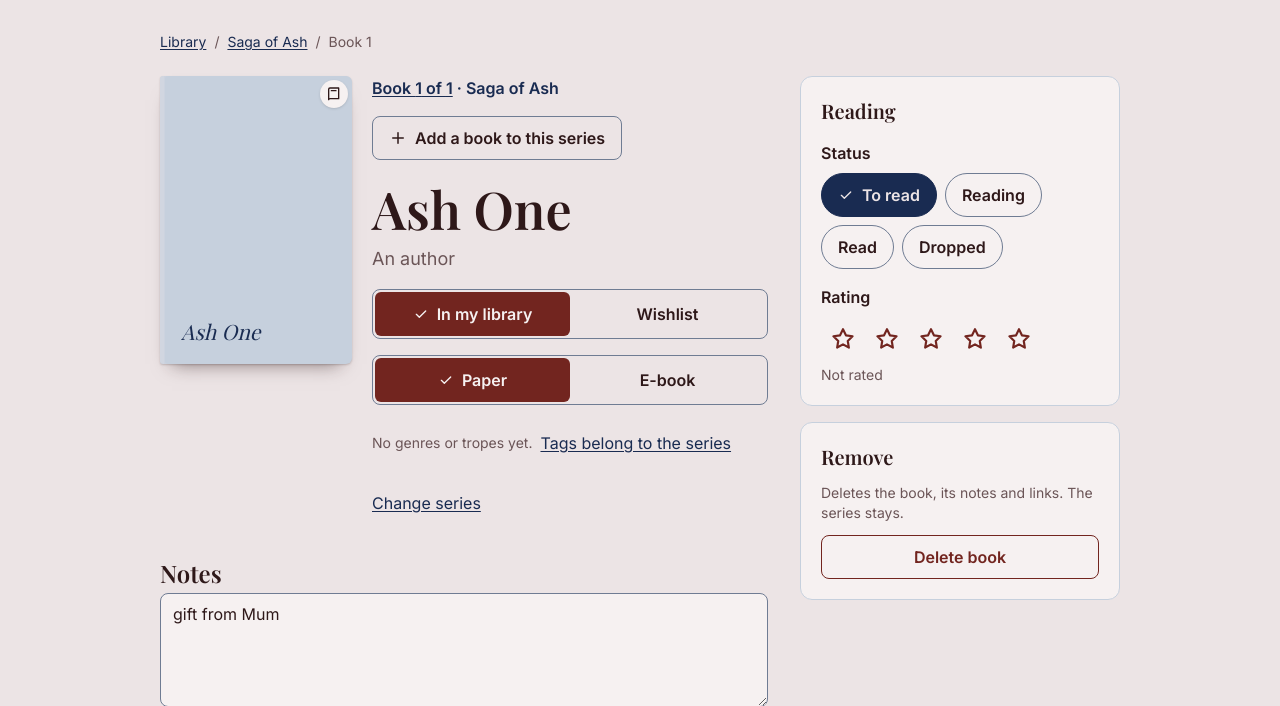
Test case: BookPage › refuses a shop link that is not a web address
expect the heading "Ash One" is shown: met, box [372,174,572,243]
Click the radio button labelled "Wishlist" at (668, 314), box [570,292,765,336]
(page scrolled)
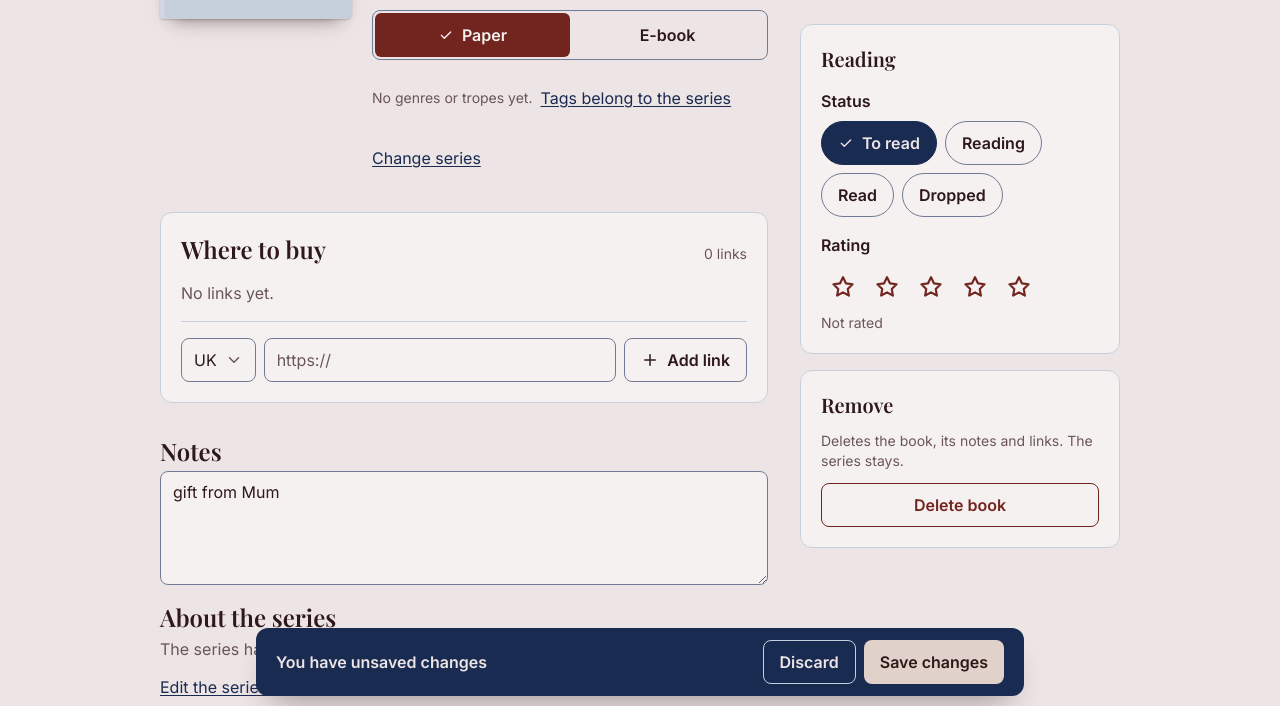
Type "yakaboo.ua/ash" into the field named "Shop URL" at (440, 360), box [264,338,616,382]
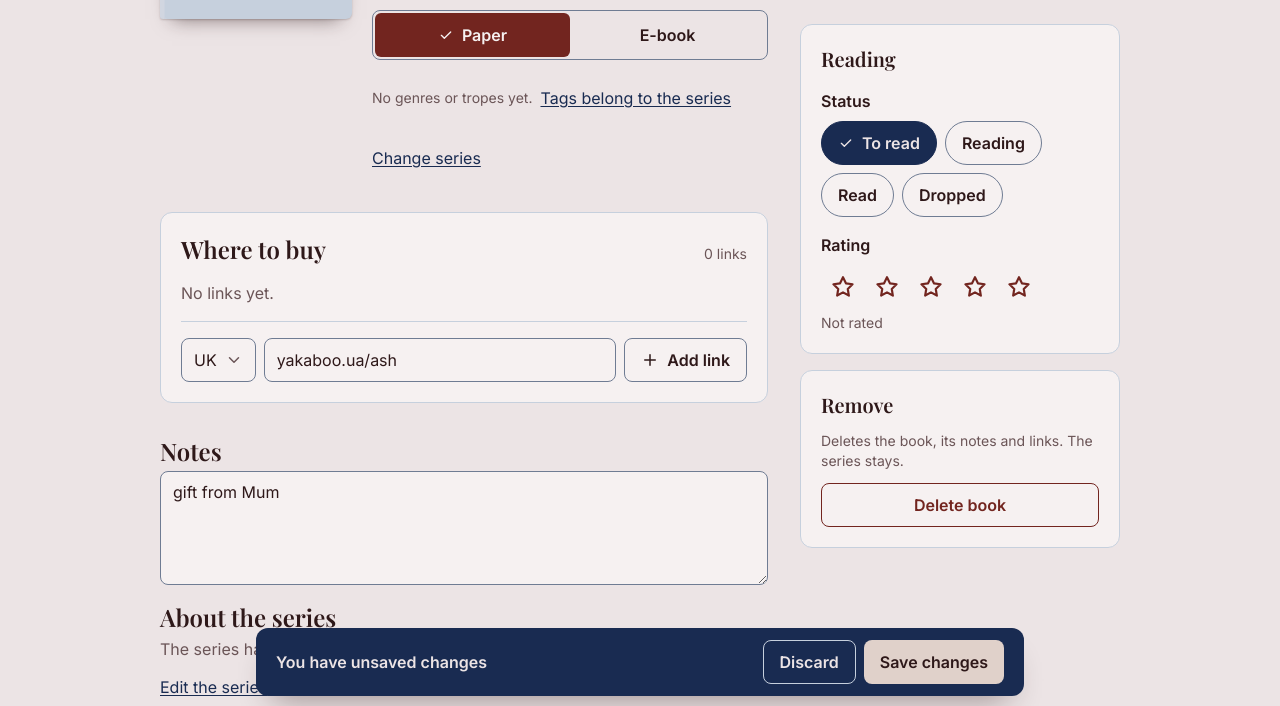
Click the button "Add link" at (686, 360), box [624,338,747,382]
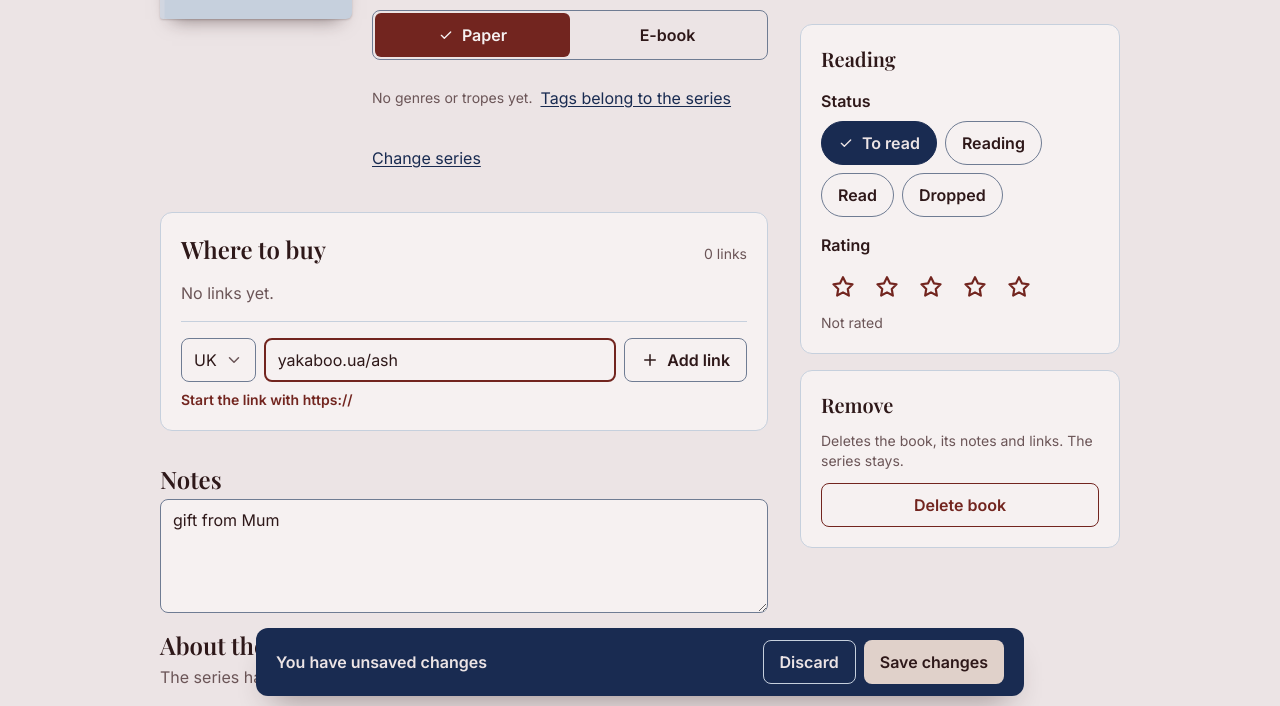
expect the message reads "Start the link with https://": met, box [181,391,352,408]
